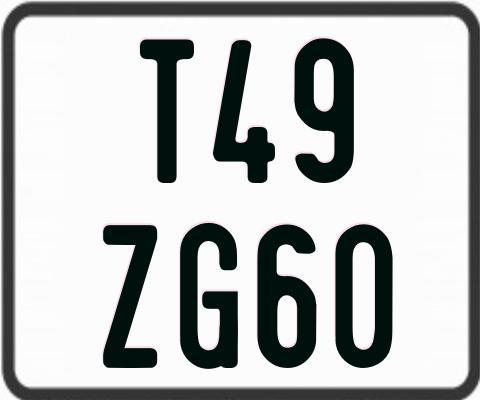0: (332, 221, 396, 370)
4: (211, 37, 275, 183)
6: (257, 223, 316, 368)
9: (294, 35, 357, 185)
G: (177, 220, 238, 372)
T: (139, 39, 199, 183)
Z: (102, 225, 161, 368)
